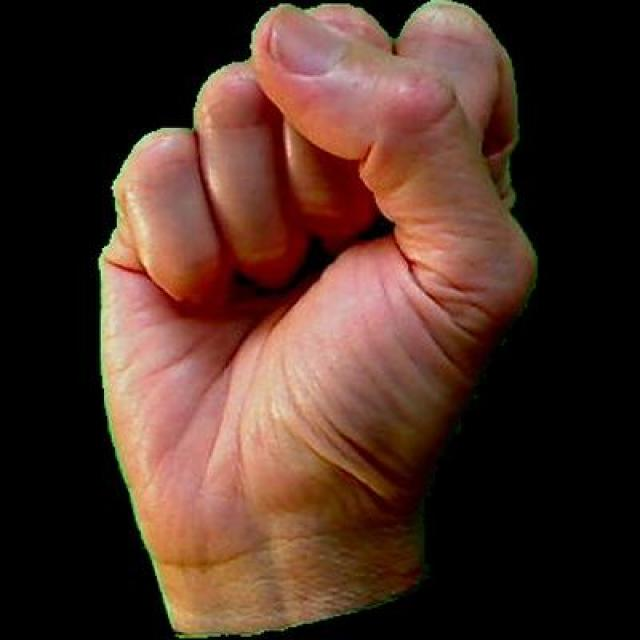s: (74, 0, 547, 637)
